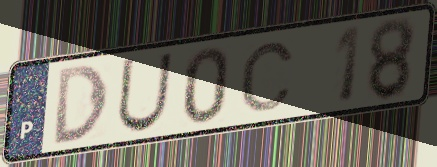0: (182, 42, 233, 128)
1: (332, 22, 363, 108)
8: (365, 14, 418, 103)
C: (238, 40, 297, 115)
D: (52, 61, 110, 148)
U: (113, 50, 175, 136)
